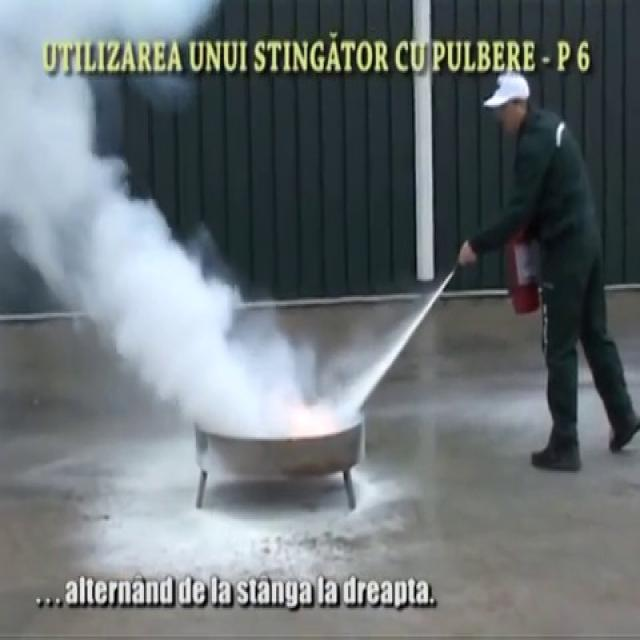Smoke: (0, 0, 277, 434)
